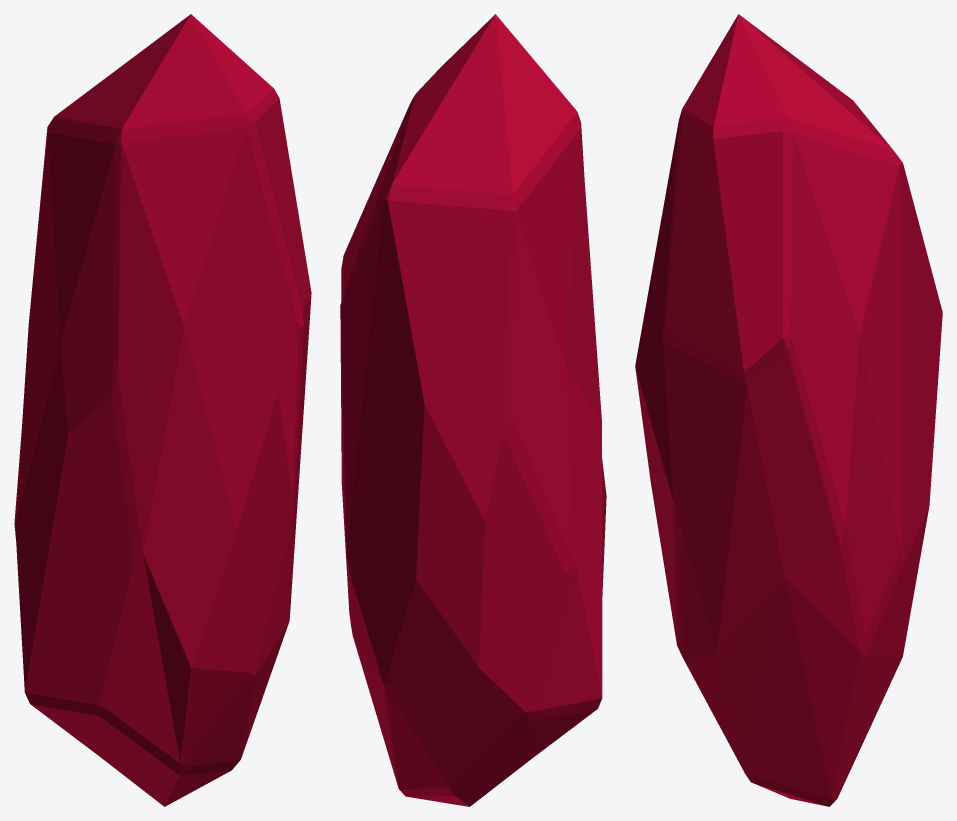
File: Prop_Ruby.fbx
The picture shows the model from 3 angles, left to right: view 1: azimuth 30°, elevation 25°; view 2: azimuth 150°, elevation 25°; view 3: azimuth 270°, elevation 25°; orthographic projection. The views are drawn at different scales.
Parts seen in each view (by area): view 1: MODEL_Ruby; view 2: MODEL_Ruby; view 3: MODEL_Ruby.
Boxes of the visible parts, x1=… form: MODEL_Ruby: x1=14, y1=14, x2=311, y2=806; MODEL_Ruby: x1=340, y1=14, x2=606, y2=806; MODEL_Ruby: x1=635, y1=14, x2=942, y2=806.
Size of the model in its own units: 243 by 685 by 243.
